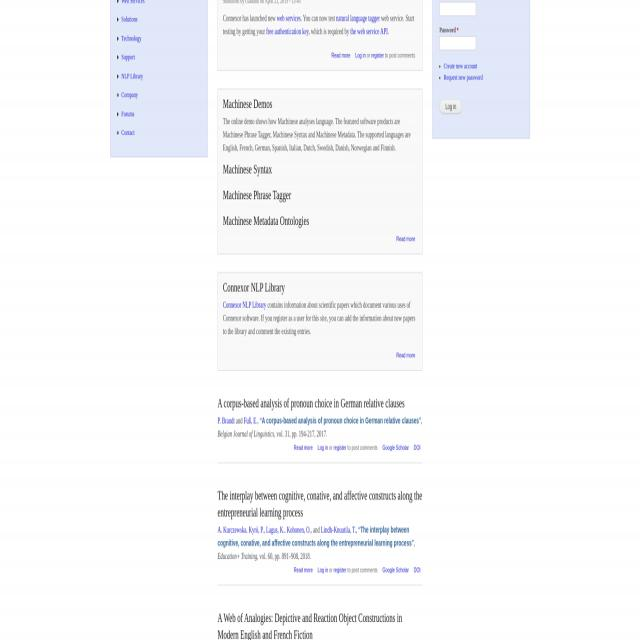button: (440, 99, 462, 114)
field: (440, 2, 476, 17), (440, 36, 476, 50)
